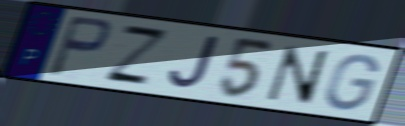5: (215, 34, 278, 102)
G: (323, 52, 382, 113)
J: (166, 35, 222, 92)
N: (264, 43, 331, 108)
P: (45, 13, 115, 80)
Z: (100, 22, 173, 88)
